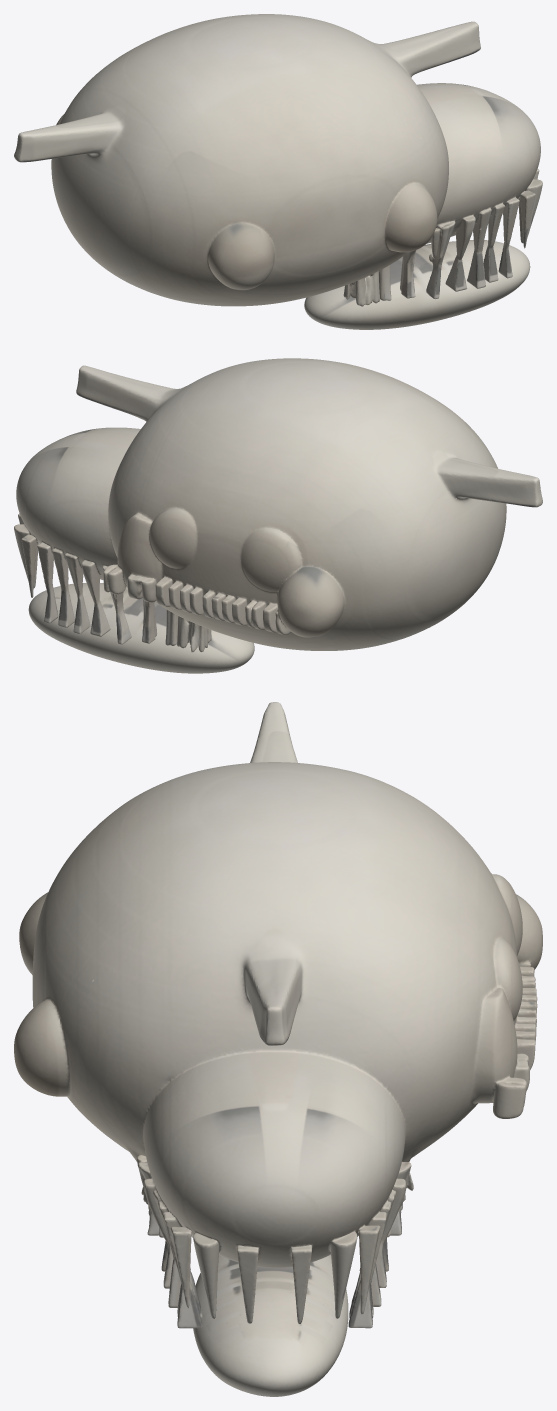
Rendered from trex_skull.fbx.
3 renders of one model, top to bottom at view 1: azimuth 30°, elevation 25°; view 2: azimuth 150°, elevation 25°; view 3: azimuth 270°, elevation 25°, orthographic. The views are drawn at different scales.
Parts seen in each view (by area): view 1: tripo_node_dc0c56b5-6064-4dfc-8c6d-61bcf7cafc0d; view 2: tripo_node_dc0c56b5-6064-4dfc-8c6d-61bcf7cafc0d; view 3: tripo_node_dc0c56b5-6064-4dfc-8c6d-61bcf7cafc0d.
Part boxes in pixels (x1,y1,x2,y2): tripo_node_dc0c56b5-6064-4dfc-8c6d-61bcf7cafc0d: (14, 14, 542, 329); tripo_node_dc0c56b5-6064-4dfc-8c6d-61bcf7cafc0d: (14, 358, 542, 673); tripo_node_dc0c56b5-6064-4dfc-8c6d-61bcf7cafc0d: (14, 702, 542, 1396).
Size of the model in its own units: 1 by 0.5909 by 0.6426.
1 material, 1 textured.
